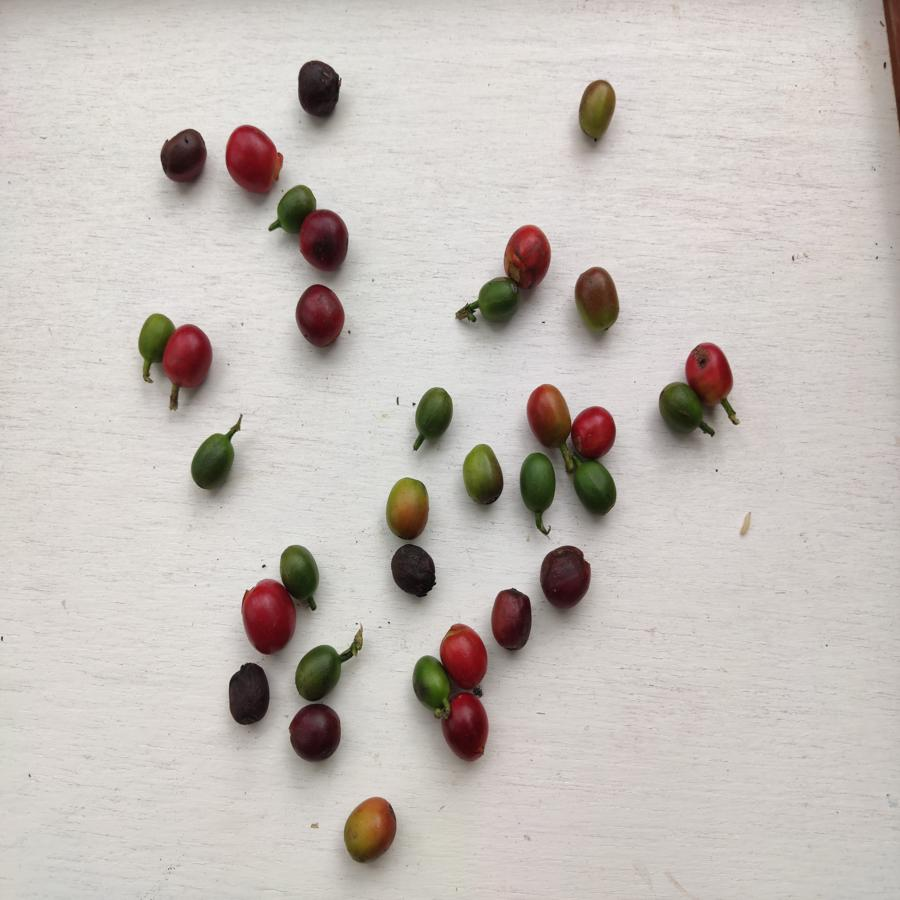Inmaduro: (294, 643, 342, 703), (189, 432, 235, 491), (573, 459, 618, 514), (657, 381, 701, 437), (412, 385, 455, 441), (281, 543, 321, 600), (519, 453, 557, 511), (410, 653, 447, 710), (477, 276, 520, 323), (278, 184, 315, 230), (137, 311, 167, 363)
Maduro: (223, 123, 281, 197), (240, 577, 294, 655), (438, 622, 487, 689), (443, 693, 491, 761), (165, 324, 213, 391), (685, 341, 733, 406), (502, 223, 553, 283), (572, 404, 615, 459)
Pinton: (342, 795, 398, 863), (525, 383, 573, 451), (575, 266, 620, 332), (462, 441, 507, 507), (385, 476, 431, 540), (576, 78, 617, 143)
Sobremaduro: (538, 544, 594, 609), (299, 211, 353, 271), (295, 283, 345, 346), (289, 703, 343, 761), (490, 587, 533, 653), (227, 662, 271, 725), (159, 127, 207, 183), (391, 542, 437, 599), (297, 61, 341, 117)
